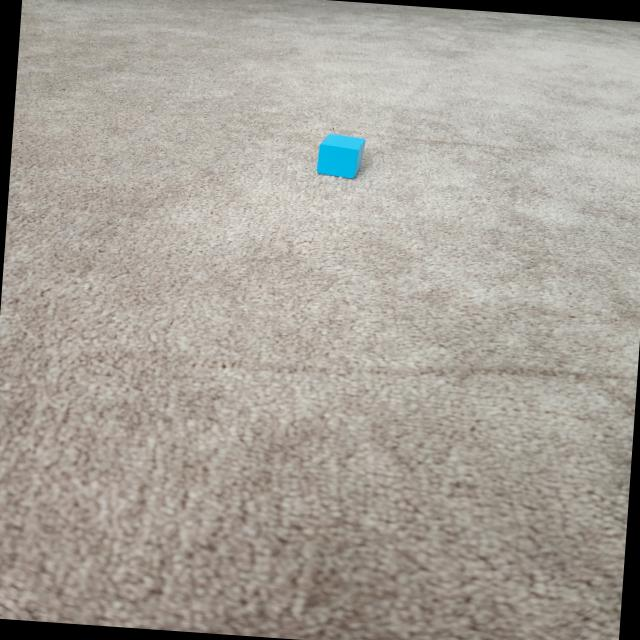bluecube: (314, 132, 368, 180)
